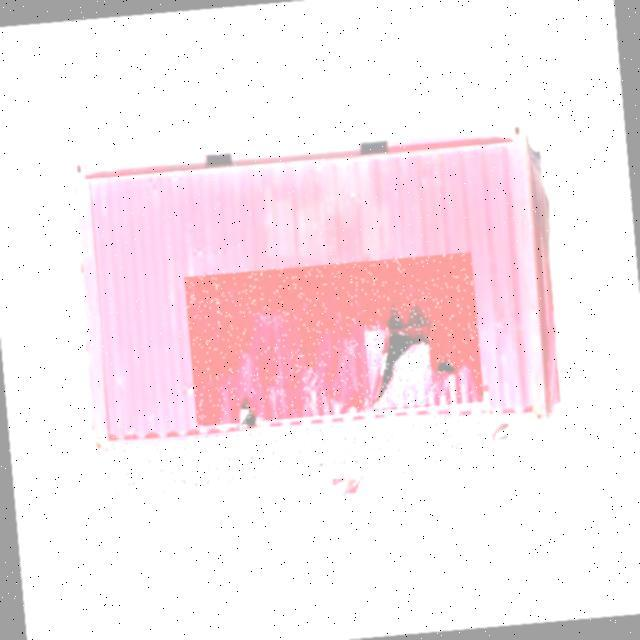Deframe: (107, 410, 494, 497)
Dent: (184, 249, 484, 426)
Hole: (364, 323, 434, 406), (239, 406, 257, 429), (436, 358, 455, 372)
